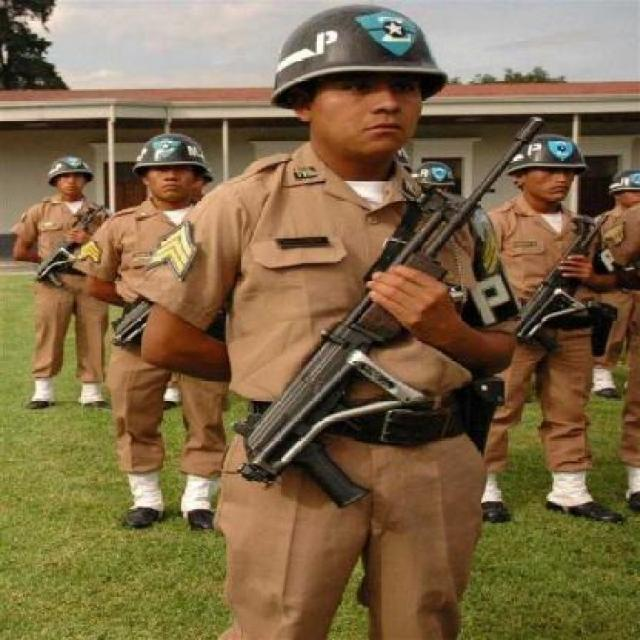weapon: (242, 118, 540, 510), (512, 216, 600, 347)
